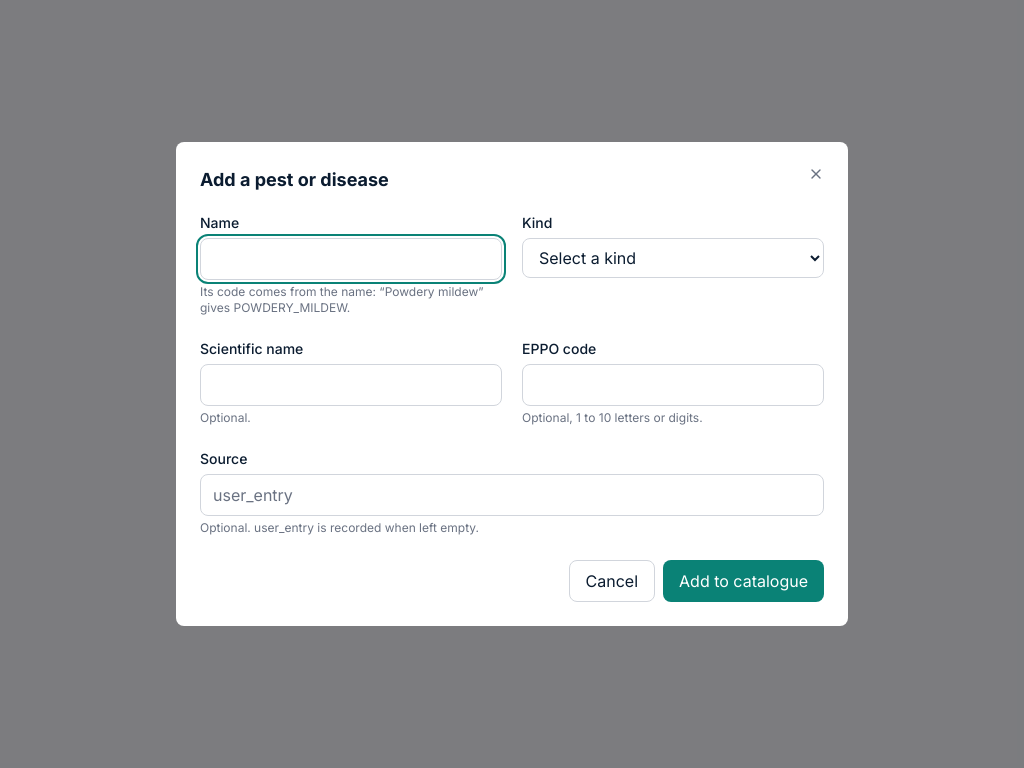
Test: the dialog adding a pest or disease › opens as a named dialog and checks the required fields
expect the dialog "Add a pest or disease" is shown: met, box [176,142,848,626]
Click the button "Add to catalogue" at (744, 581), box [663,560,824,602]
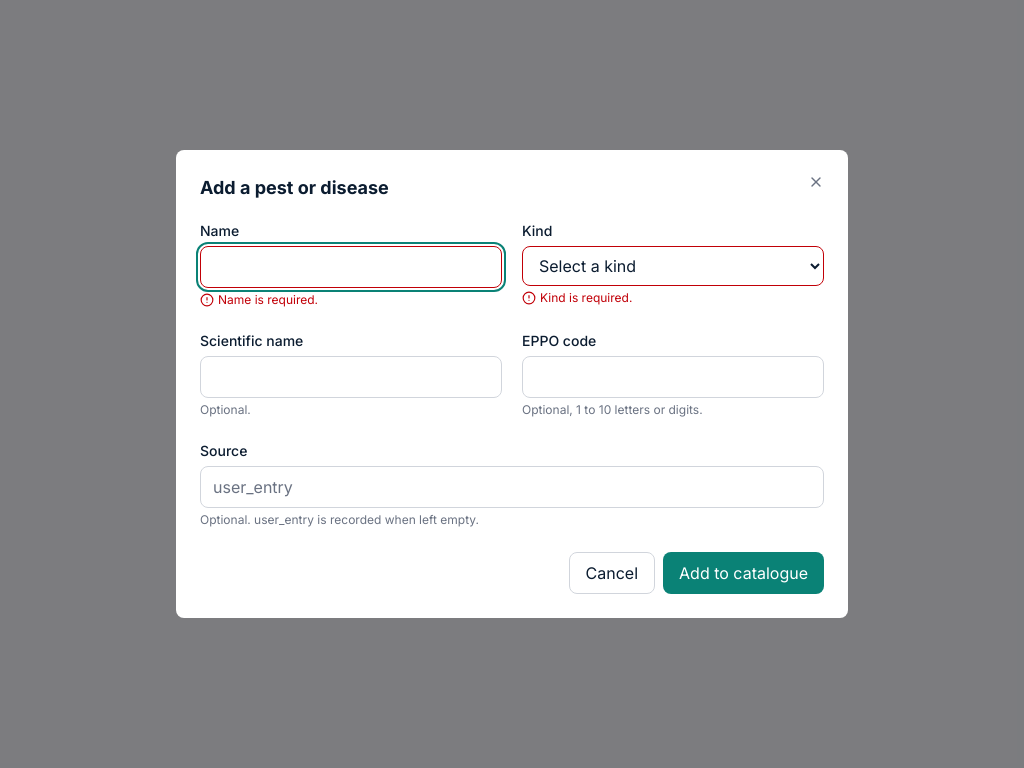
expect the text "Name is required." is shown: met, box [218,292,318,308]
expect the text "Kind is required." is shown: met, box [540,290,632,306]
